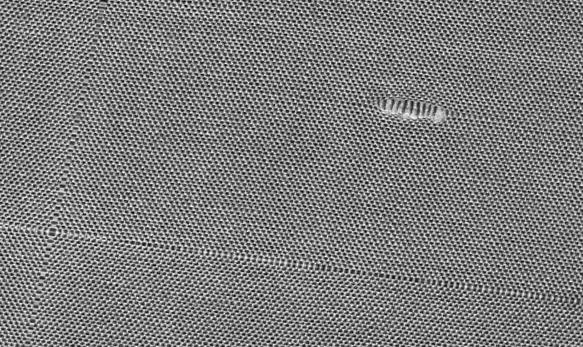slub: (370, 94, 453, 127)
